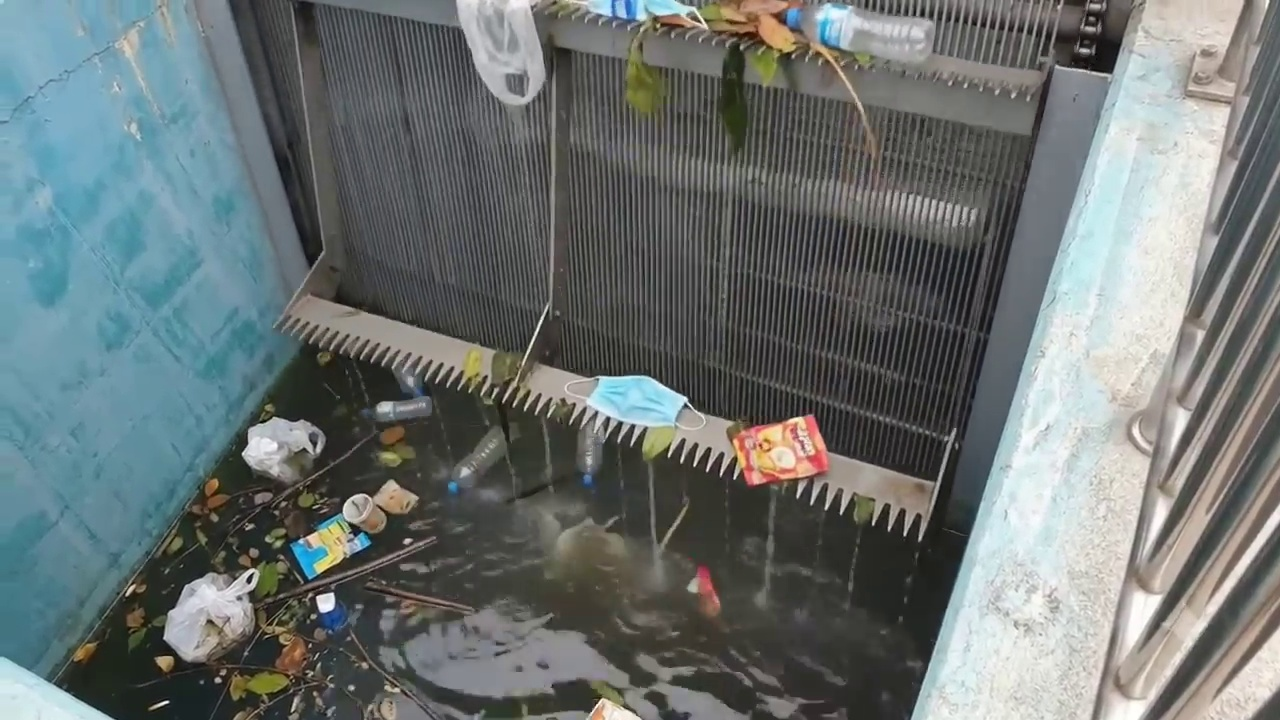debris: (290, 481, 418, 579), (741, 0, 934, 63), (164, 562, 283, 661), (456, 0, 547, 105), (565, 376, 709, 430), (730, 415, 828, 485), (242, 418, 325, 473), (570, 0, 708, 27), (448, 430, 507, 491), (372, 394, 433, 423)
